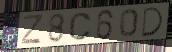0: (118, 8, 140, 39)
6: (95, 9, 114, 42)
8: (47, 12, 66, 44)
C: (68, 12, 93, 42)
D: (141, 6, 165, 38)
Z: (20, 13, 45, 45)
